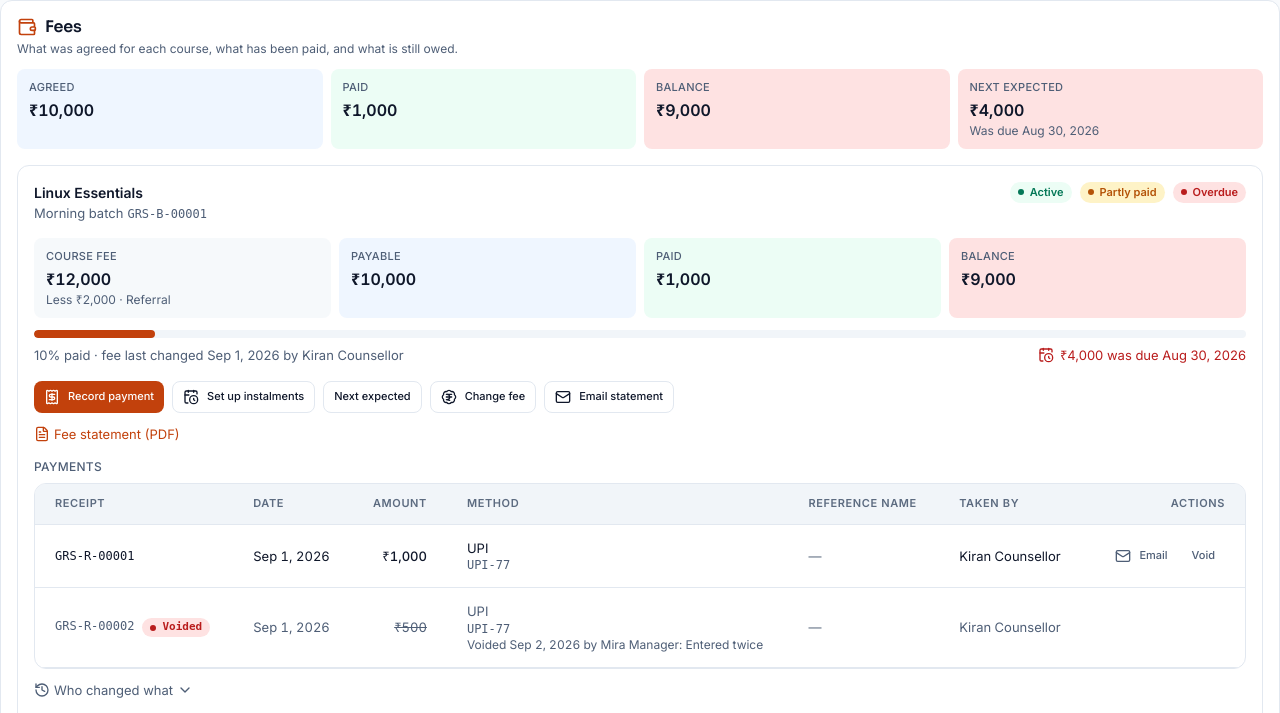
FeeLedger › says why a statement could not be mailed
The image size is (1280, 713).
Click the button "Email statement". click: click(609, 397)
box: [544,381,674,413]
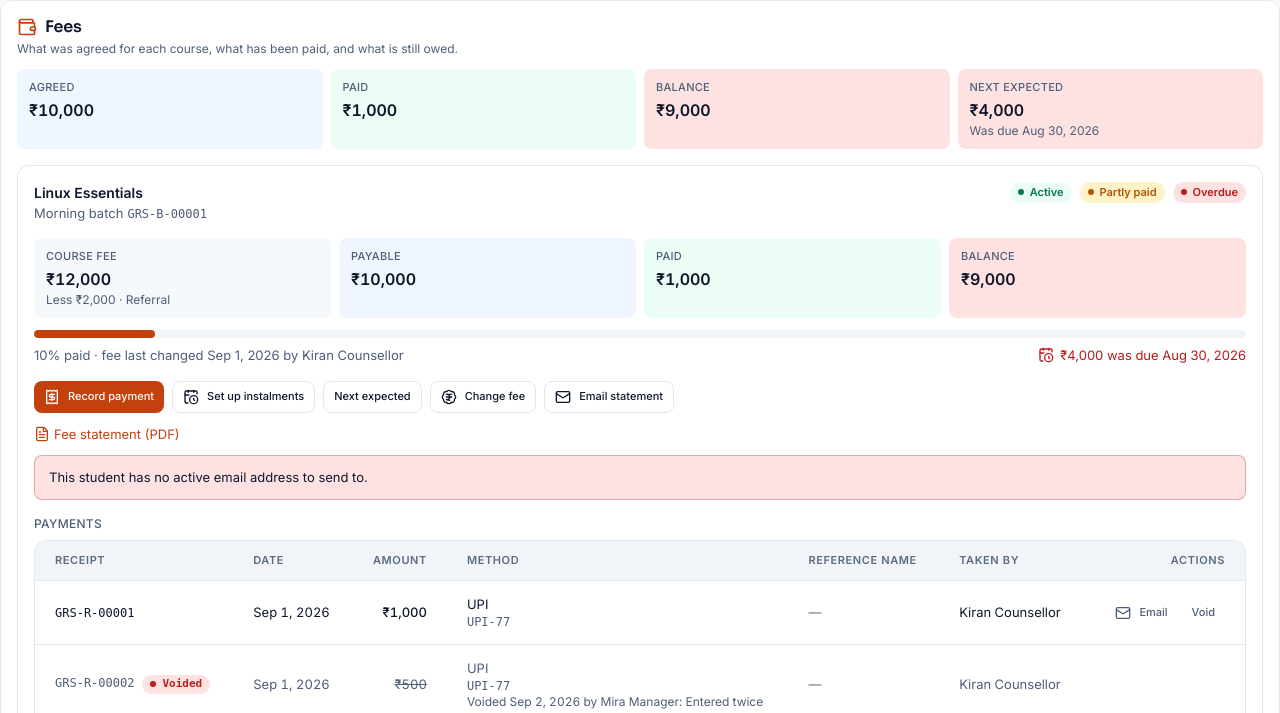
Now the text "This student has no active email address to send to." is shown, box [34,455,1246,500]
